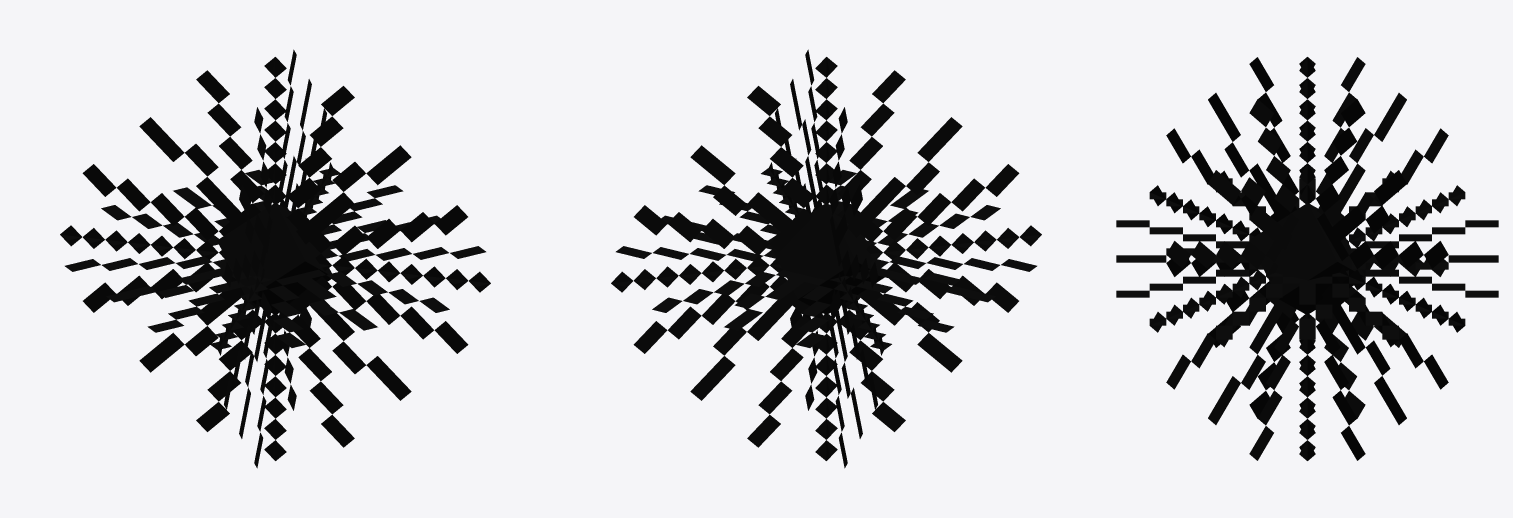
File: urchin.glb
The picture shows the model from 3 angles, left to right: view 1: azimuth 30°, elevation 25°; view 2: azimuth 150°, elevation 25°; view 3: azimuth 270°, elevation 25°; orthographic projection.
Parts seen in each view (by area): view 1: plane (×3), cuboid; view 2: plane (×3), cuboid; view 3: plane (×3), cuboid.
Part boxes in pixels (x1,y1,x2,y2): plane (×3): [60, 49, 490, 468]; cuboid: [217, 203, 331, 315]; plane (×3): [611, 49, 1041, 468]; cuboid: [768, 203, 884, 314]; plane (×3): [1116, 57, 1498, 460]; cuboid: [1249, 203, 1365, 314].
Size of the model in its own units: 2 by 2.83 by 2.
